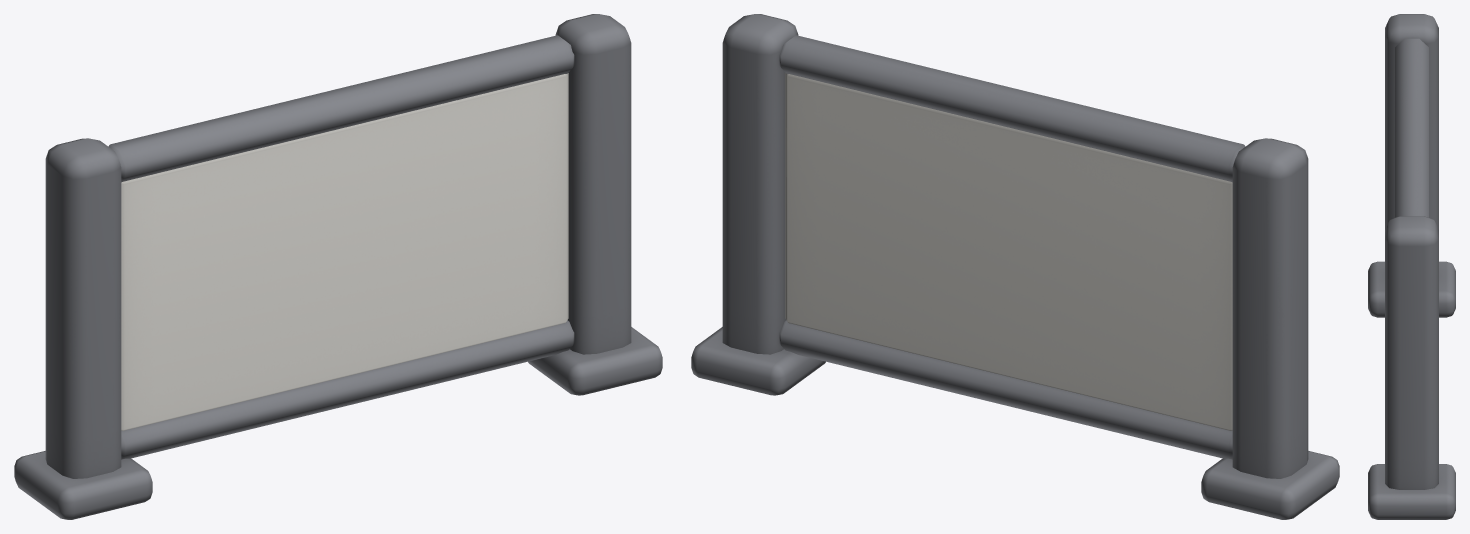
Rendered from site-fence.fbx.
The picture shows the model from 3 angles, left to right: view 1: azimuth 30°, elevation 25°; view 2: azimuth 150°, elevation 25°; view 3: azimuth 270°, elevation 25°; orthographic projection. The views are drawn at different scales.
Visible parts, largest first — view 1: site-fence; view 2: site-fence; view 3: site-fence.
Boxes of the visible parts, bbox=[...] form: site-fence: bbox=[14, 14, 662, 519]; site-fence: bbox=[691, 14, 1339, 519]; site-fence: bbox=[1368, 14, 1455, 519].
Bounding box in the file's own units: 1060 × 585 × 164.
Materials: 1 (1 with a texture image).
